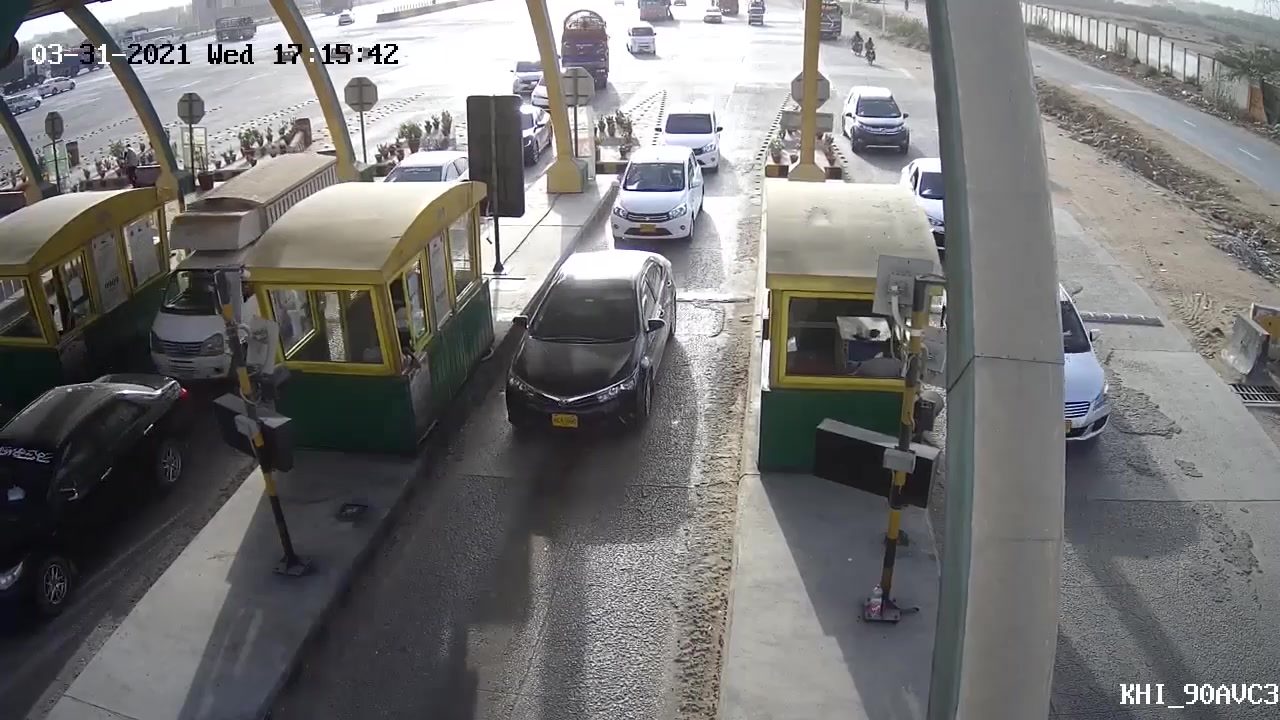F1: (486, 247, 691, 461), (603, 144, 708, 250)
